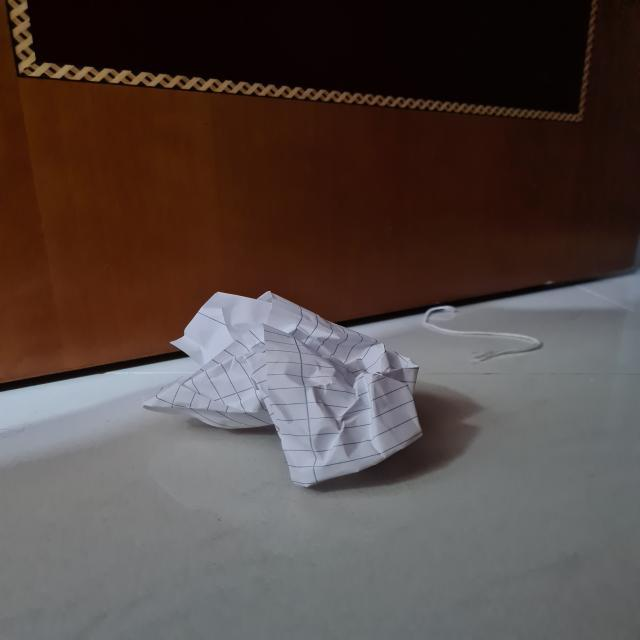Paper: (144, 290, 424, 489)
